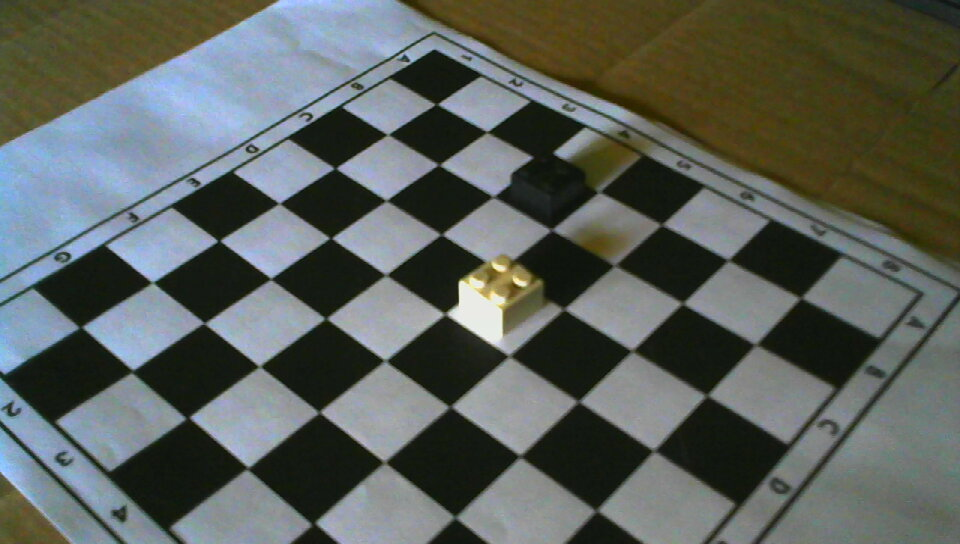bp: (511, 152, 585, 216)
wp: (457, 254, 544, 336)
